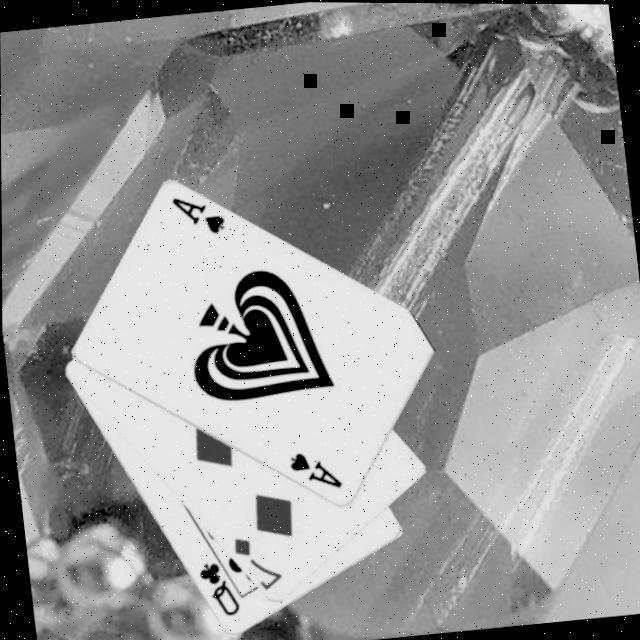7D: (230, 528, 287, 594)
AS: (168, 188, 230, 240), (286, 444, 346, 495)
QC: (196, 555, 244, 621)
